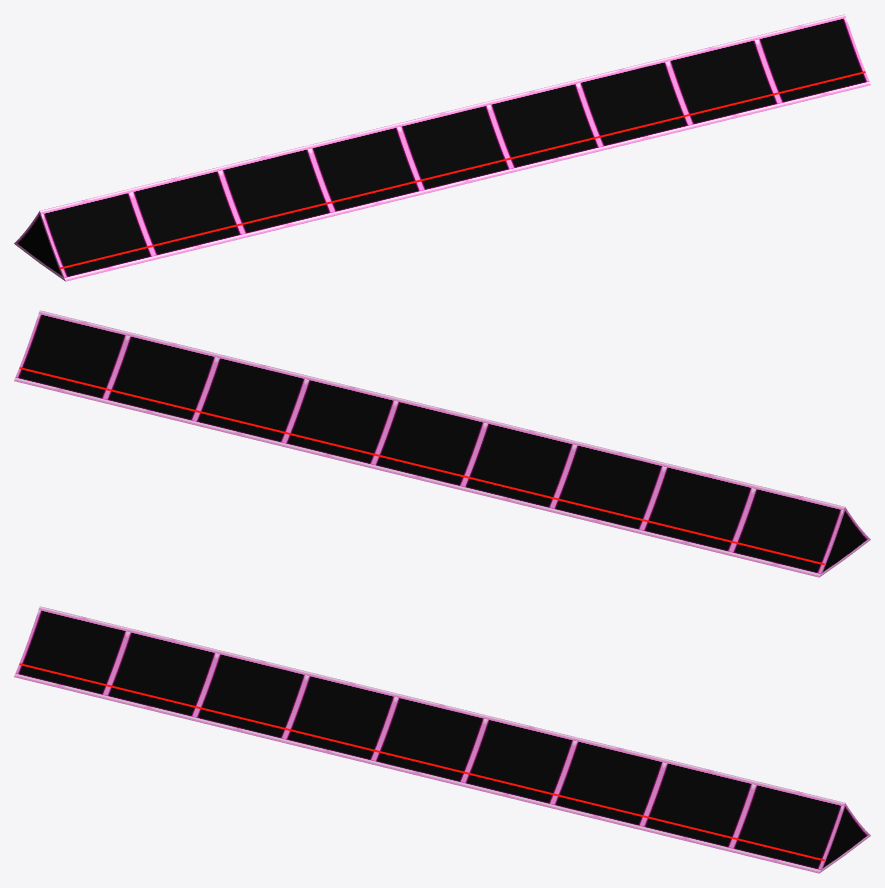
The model's file is Platform-1-experiment.fbx.
3 views of the same model, one above another, from view 1: azimuth 30°, elevation 25°; view 2: azimuth 150°, elevation 25°; view 3: azimuth 330°, elevation 25° (orthographic).
Parts seen in each view (by area): view 1: ramp.005; view 2: ramp.005; view 3: ramp.005.
Boxes of the visible parts, box(x1,y1,x2,y2) form: ramp.005: box(14, 14, 870, 281); ramp.005: box(14, 310, 870, 577); ramp.005: box(14, 606, 870, 873).
Size of the model in its own units: 3293 by 206 by 366.
